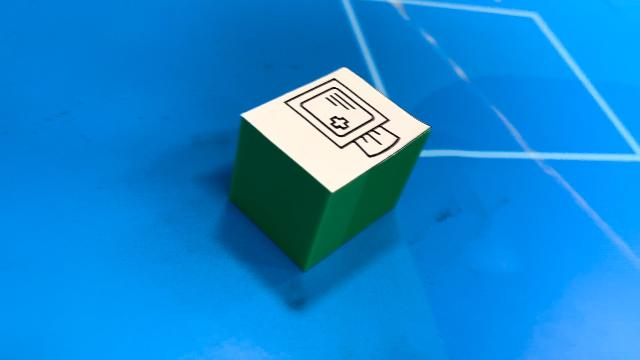napkin: (232, 66, 430, 272)
